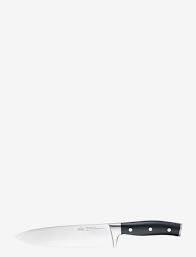Knife: (15, 219, 182, 247)
